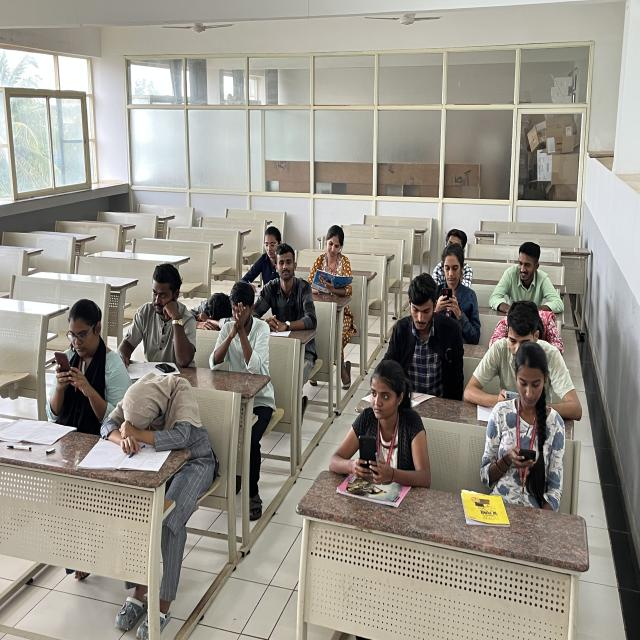Reading: (374, 274, 448, 410), (307, 222, 370, 312)
Sleeping: (104, 373, 201, 448), (183, 276, 240, 344)
Using Phone: (324, 352, 430, 547), (468, 338, 568, 493), (30, 284, 123, 418), (462, 298, 539, 406), (135, 255, 196, 378), (426, 239, 482, 336)
Writing: (226, 218, 284, 292)
